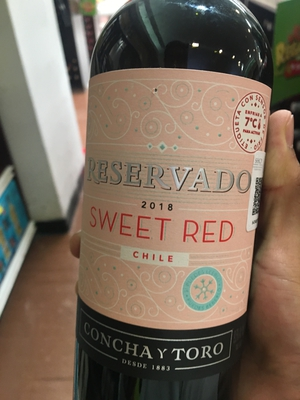reservado sweet red: (74, 11, 275, 396)
